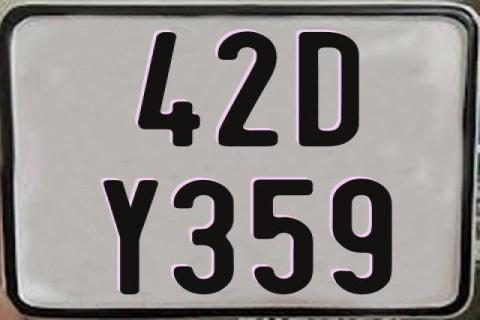0: (137, 32, 205, 151), (251, 178, 316, 298), (218, 32, 280, 152), (330, 177, 390, 296), (174, 180, 235, 296)
D: (297, 32, 357, 147)
Y: (103, 178, 162, 296)
